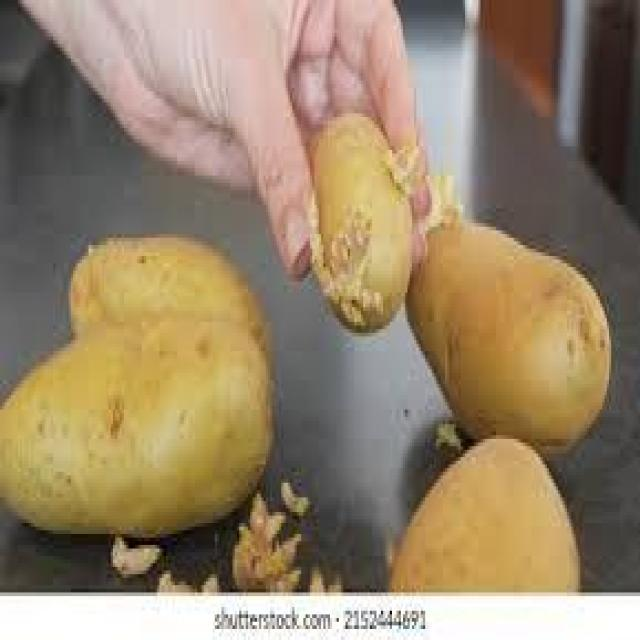potato: (0, 307, 279, 541), (374, 428, 589, 592)
